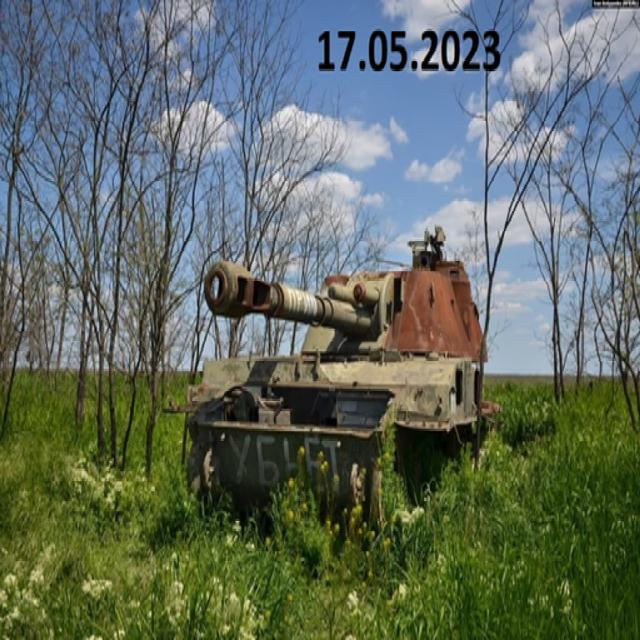ART: (184, 220, 488, 536)
